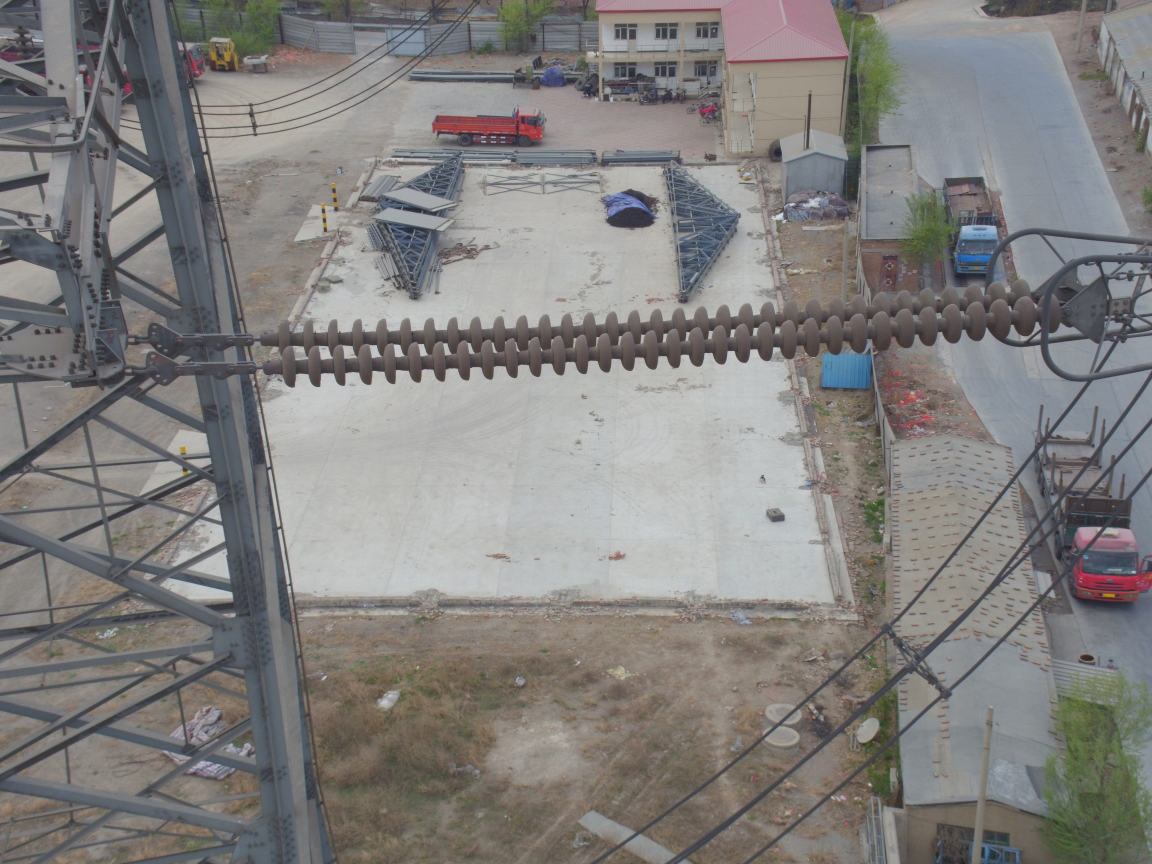insulator: (224, 273, 1081, 392)
